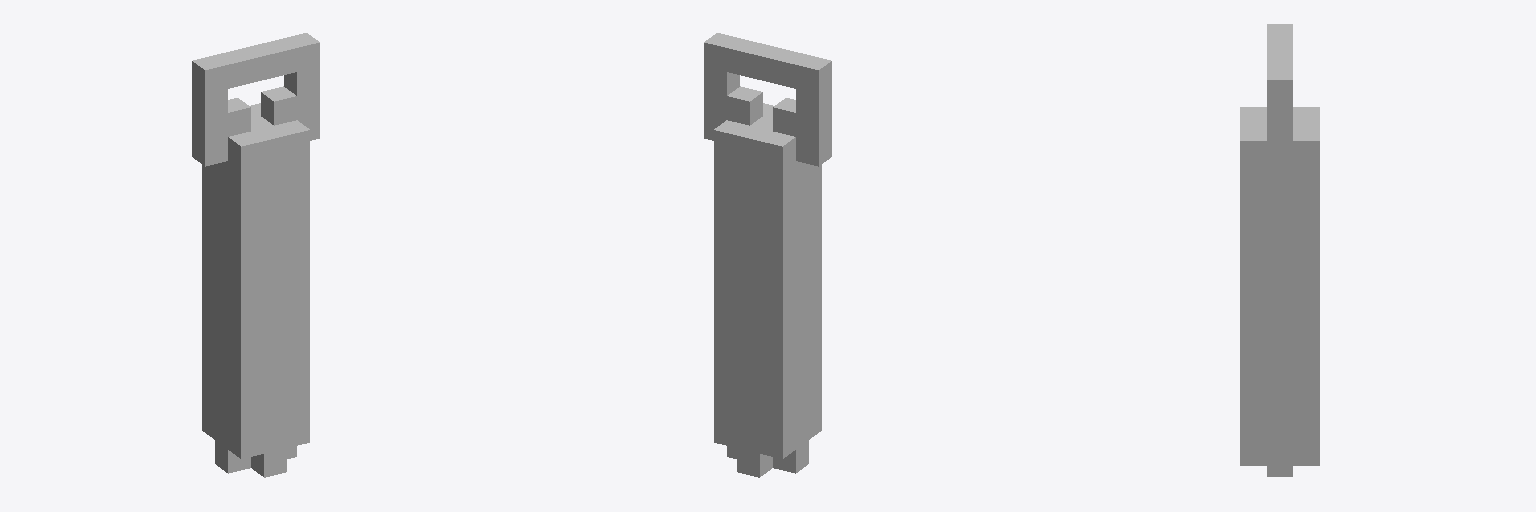
Rendered from SL_Flail_Handle.obj.
The picture shows the model from 3 angles: view 1: azimuth 30°, elevation 25°; view 2: azimuth 150°, elevation 25°; view 3: azimuth 270°, elevation 25°; orthographic projection.
Parts seen in each view (by area): view 1: SL_Flail_Handle; view 2: SL_Flail_Handle; view 3: SL_Flail_Handle.
Boxes of the visible parts, x1=… form: SL_Flail_Handle: x1=192, y1=33, x2=319, y2=477; SL_Flail_Handle: x1=704, y1=33, x2=831, y2=477; SL_Flail_Handle: x1=1240, y1=24, x2=1319, y2=476.
Bounding box in the file's own units: 5 × 17 × 3.